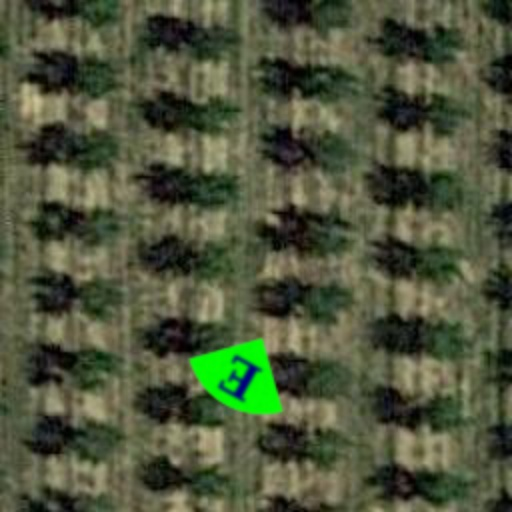quarter_circle: (170, 308, 310, 448)
